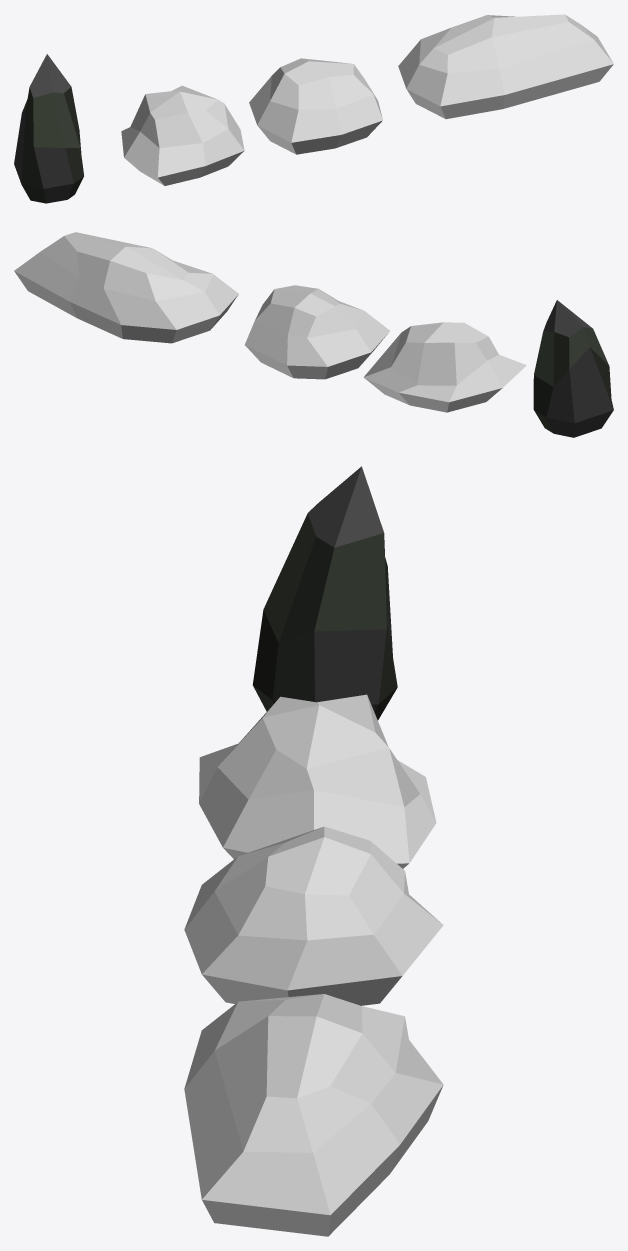
File: simplerocksfbx.fbx
3 views of the same model, one above another, from view 1: azimuth 30°, elevation 25°; view 2: azimuth 150°, elevation 25°; view 3: azimuth 270°, elevation 25° (orthographic). The views are drawn at different scales.
Parts seen in each view (by area): view 1: Cube.003, Cube.001, Cube, Cube.002; view 2: Cube.003, Cube, Cube.001, Cube.002; view 3: Cube.003, Cube.001, Cube, Cube.002.
Boxes of the visible parts, box(x1,y1,x2,y2) form: Cube.003: box(398, 14, 613, 119); Cube.001: box(249, 58, 382, 154); Cube: box(121, 85, 244, 185); Cube.002: box(14, 54, 83, 203); Cube.003: box(14, 232, 238, 343); Cube: box(363, 322, 526, 412); Cube.001: box(245, 285, 389, 379); Cube.002: box(533, 300, 613, 437); Cube.003: box(184, 994, 443, 1236); Cube.001: box(184, 826, 443, 1005); Cube: box(199, 694, 436, 868); Cube.002: box(252, 466, 397, 720).
Bounding box in the file's own units: 92184 × 19541 × 17741.
